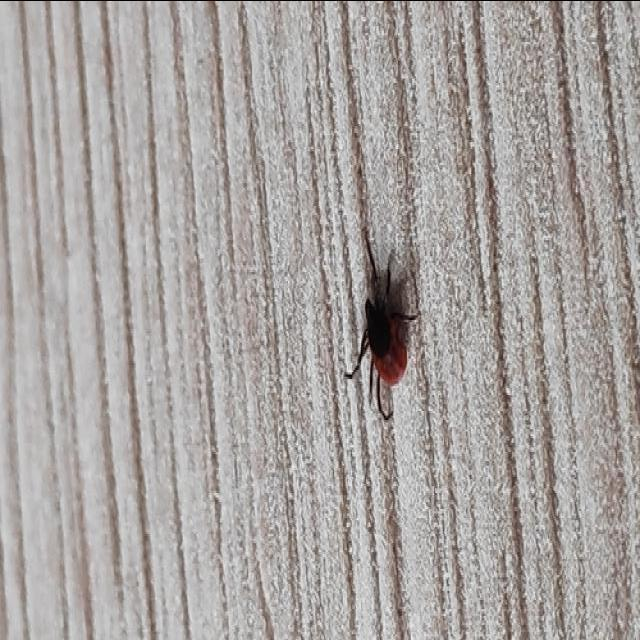Ixodes Ricinus-F: (344, 221, 420, 419)
